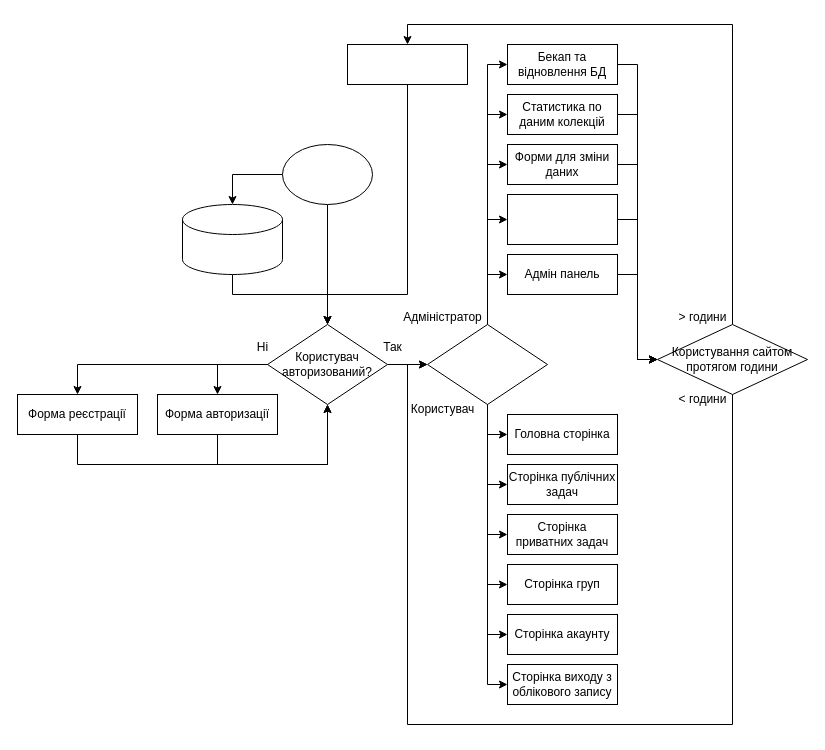
The diagram is 825 pixels wide and 750 high, and some of its shapes have lost their labels. The box of each missing label's shape, as (x1, y1, x2, y2) in pixels:
Вхід на сайт: (282, 144, 372, 204)
Запит на відновлення токену авторизації: (346, 44, 468, 84)
Користувач чи адміністратор?: (426, 324, 548, 404)
Підключення до серверу та БД: (182, 204, 282, 274)
Сторінка з даними до кожної колекції БД: (506, 194, 618, 244)
